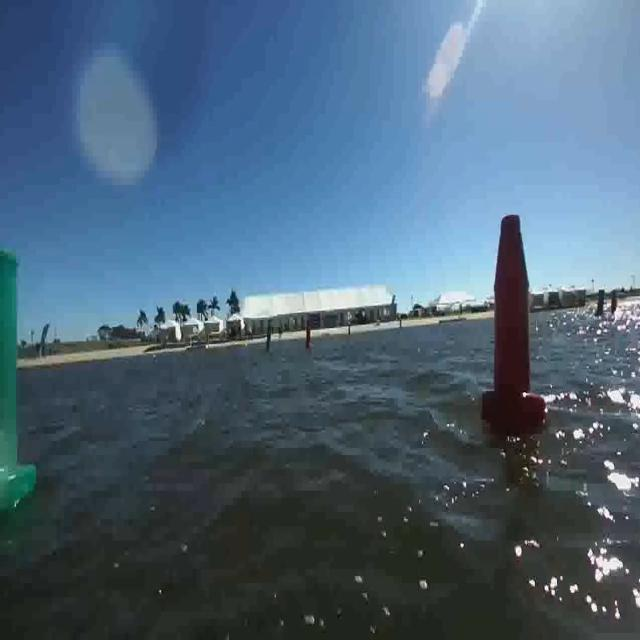green-column-buoy: (0, 243, 35, 497)
red-column-buoy: (482, 210, 546, 435)
